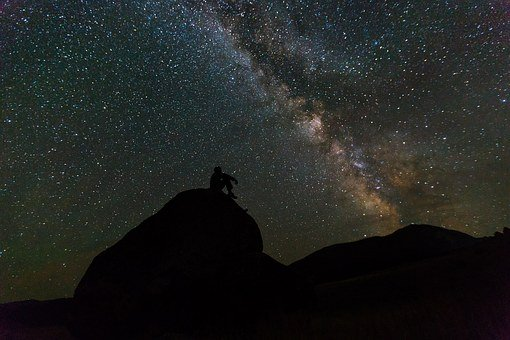sky: (5, 4, 495, 225)
stone: (286, 210, 510, 331), (51, 195, 275, 316)
